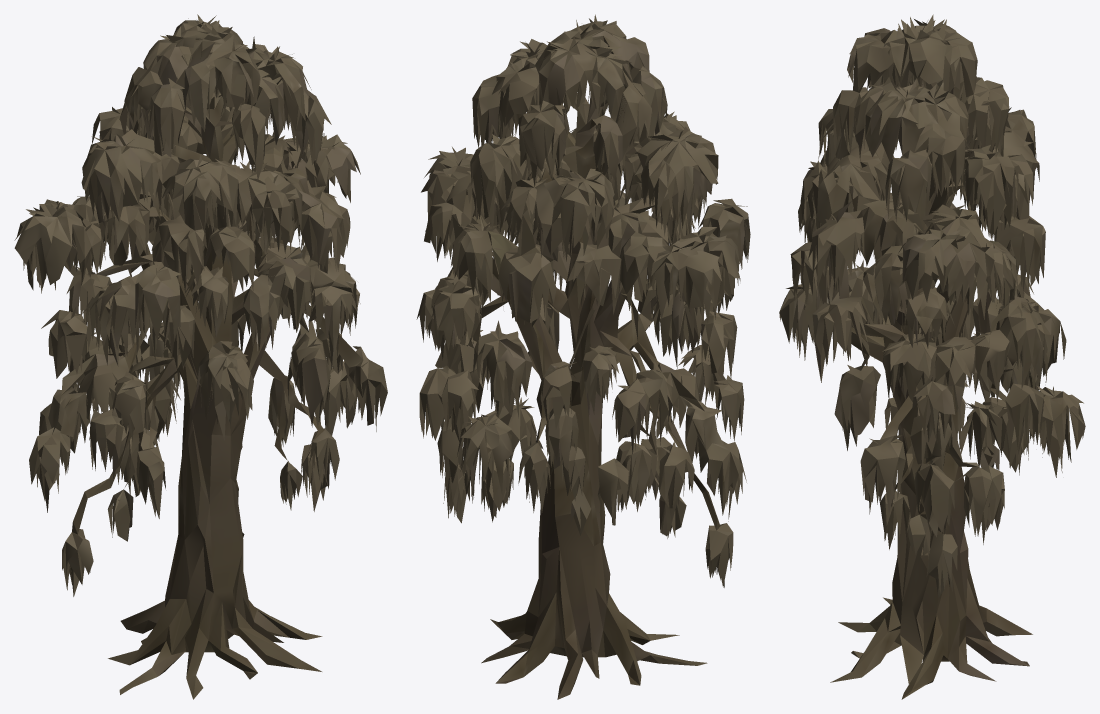
Rendered from casuarina.glb.
3 views of the same model, side by side, from view 1: azimuth 30°, elevation 25°; view 2: azimuth 150°, elevation 25°; view 3: azimuth 270°, elevation 25° (orthographic).
Size of the model in its own units: 1.04 by 1.91 by 0.8419.
Materials: 1 (1 with a texture image).
